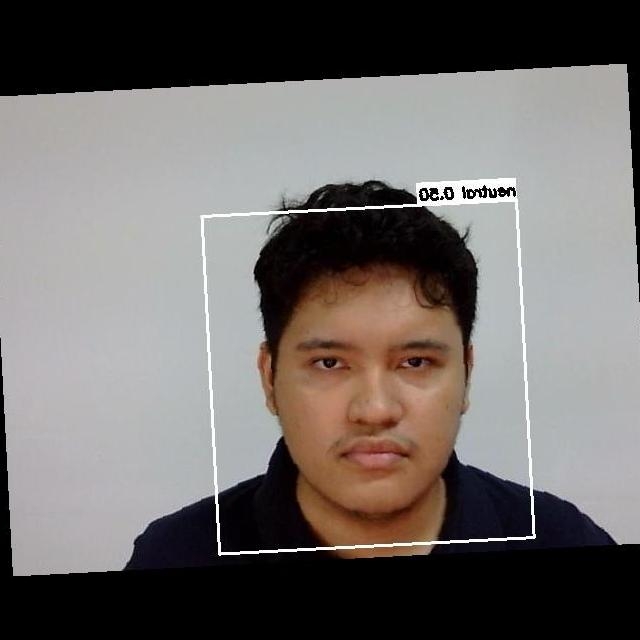Natural: (266, 290, 462, 485)
